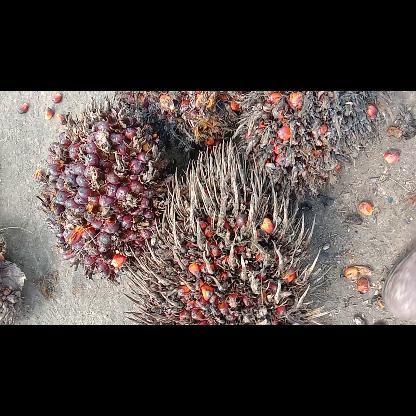TBS masak: (37, 93, 174, 281), (118, 91, 248, 151)
Terlalu masak: (124, 138, 330, 324), (234, 91, 378, 193)
